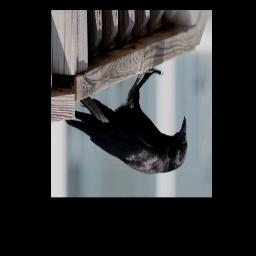Crow: (64, 68, 188, 175)
